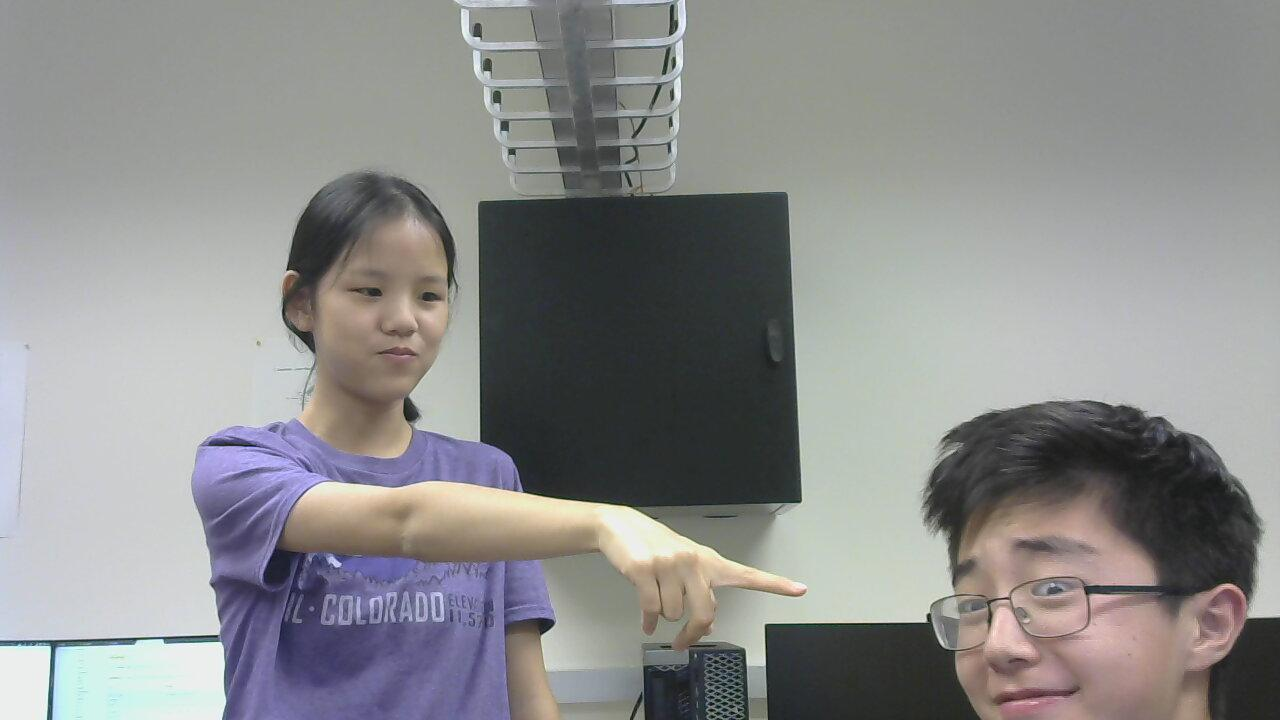hands: (596, 476, 812, 652)
